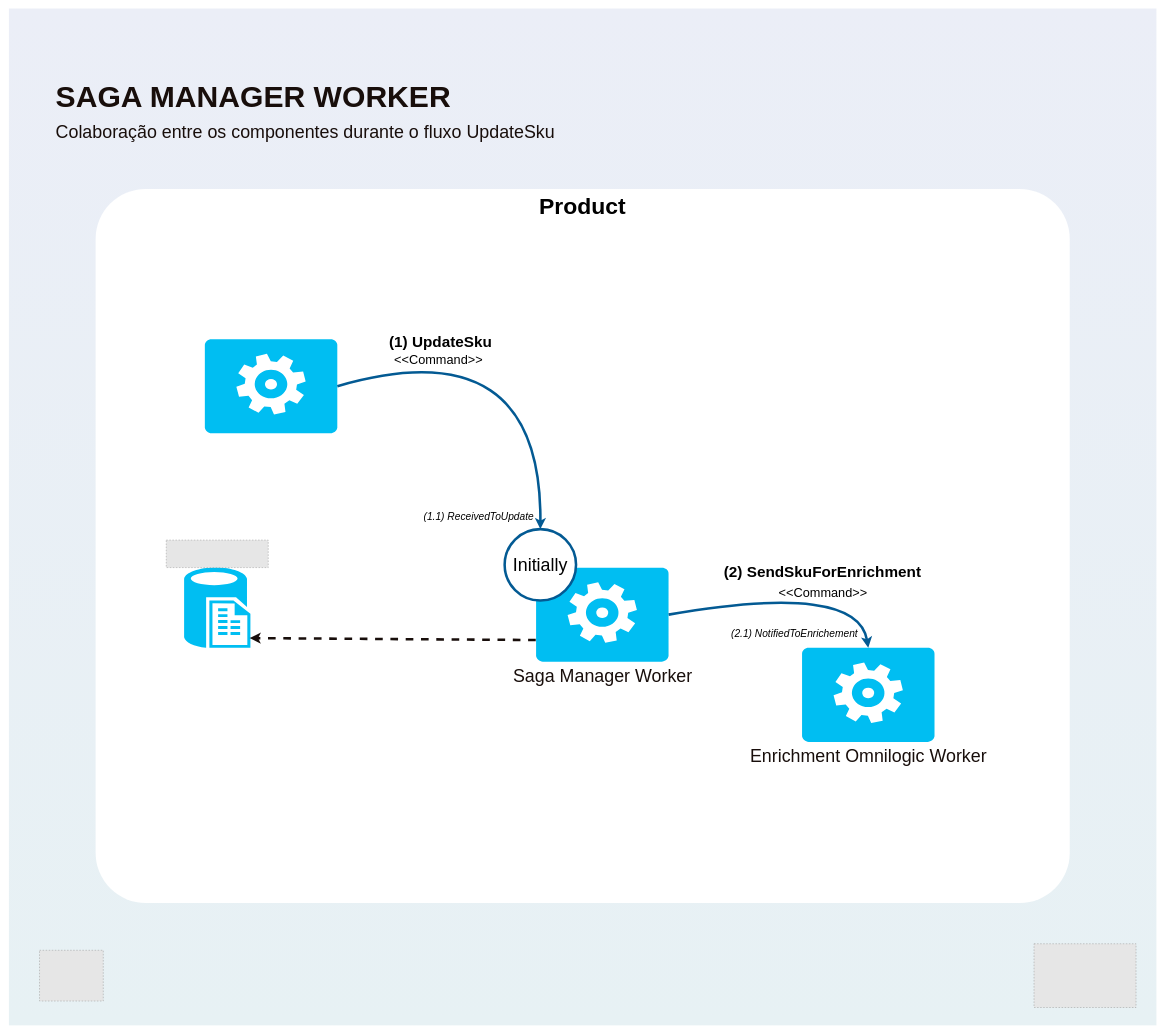
This 1165x1034 diagram has some shape labels left out. Grey dashed boxes stand in for pictures. The shapes that lost their labels are listed below. From the top down, each one's centre as x and y in pixels, then its label:
At pixel 271 386: "Changes Manager Worker".
At pixel 217 607: "products transient".
